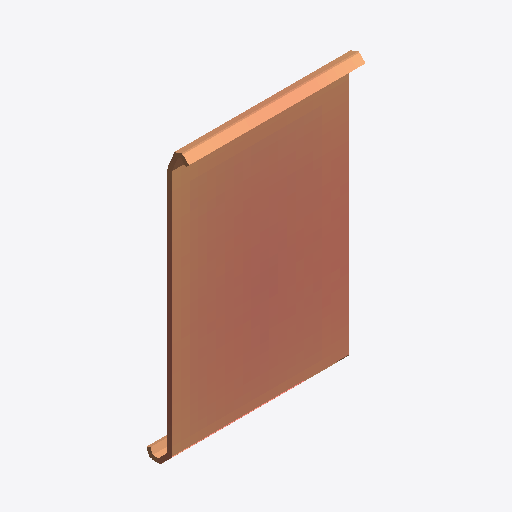
Isometric view (azimuth 45°, elevation 35.3°) of a Minecraft model made of 10 cuboids, textured from the same repository.
Visible parts, largest first — base, element 4, element 2.
Boxes of the visible parts, x1=… form: base: x1=167, y1=73, x2=348, y2=455; element 4: x1=180, y1=53, x2=364, y2=166; element 2: x1=174, y1=50, x2=358, y2=157.
Size of the model in its own units: 10 by 15.9 by 2.42.